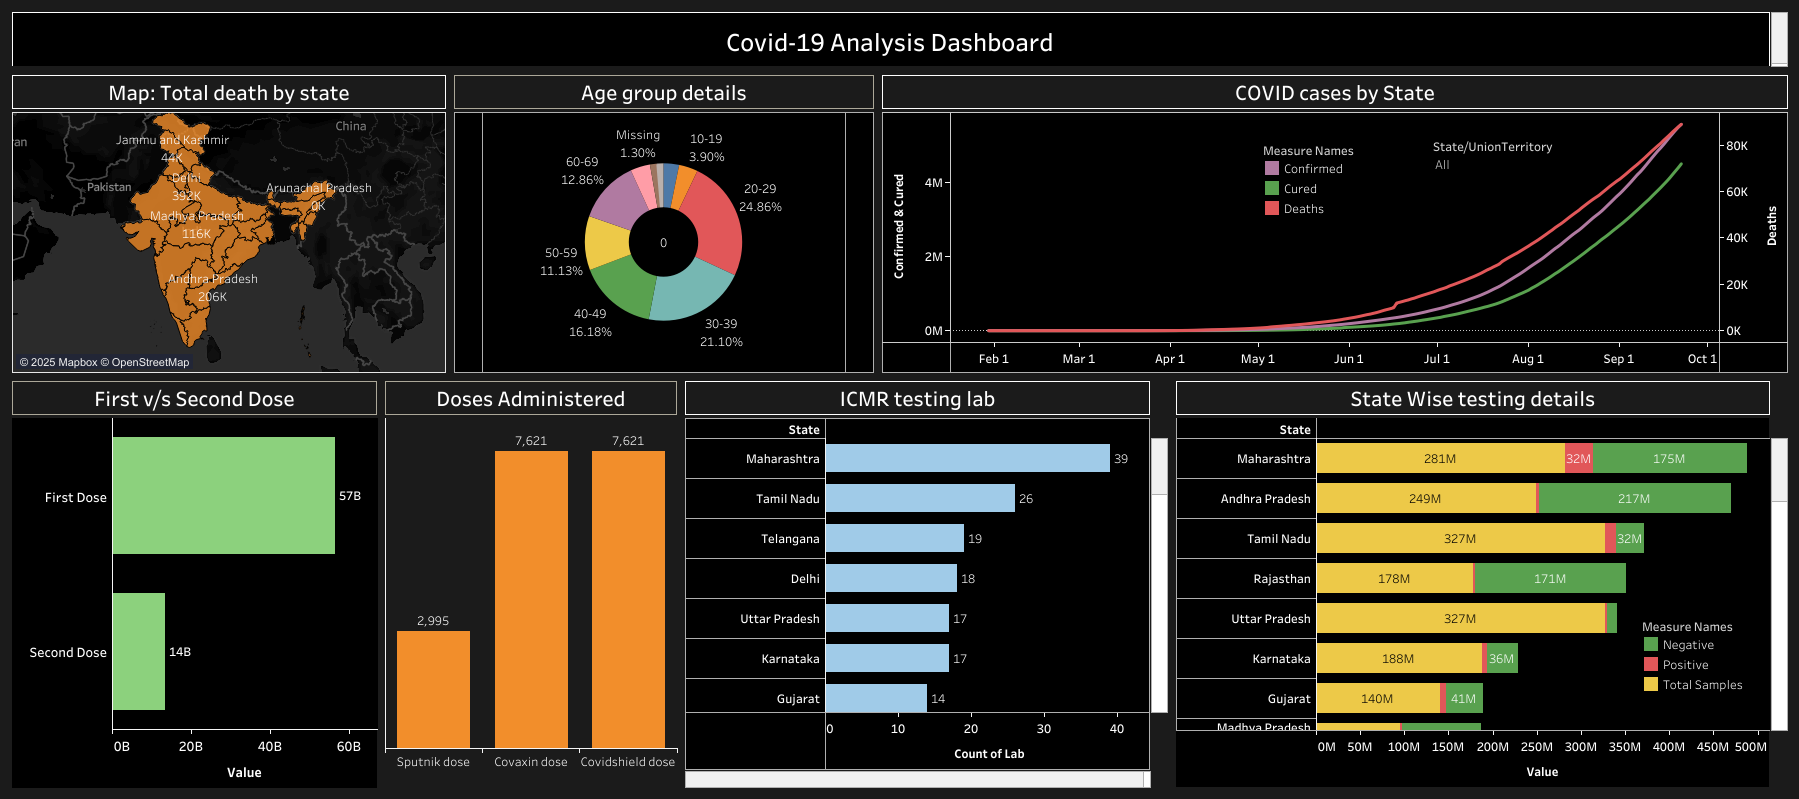

The page's visual inventory and layout, read from the dashboard file:
{"tool":"tableau","page":{"name":"Dashboard 1","canvas":[1800,800],"ordinal":0},"visuals":[{"type":"worksheet","title":"title","mark":"Automatic","box":[8,8,1784,63.1]},{"type":"worksheet","title":"Map: Total death by state","mark":"Automatic","box":[8,71.1,442,305.9]},{"type":"worksheet","title":"Age group details","mark":"Pie","rows":["Calculation_352969635285405697","Calculation_352969635285405697"],"box":[450,71.1,428,305.9]},{"type":"worksheet","title":"COVID cases by State","mark":"Automatic","rows":["Deaths"],"cols":["Date"],"box":[878,71.1,914,305.9]},{"type":"filter","title":"COVID cases by State","param":"[federated.0e0y9kd1suk8no1e488uf1n6h8mq].[none:State/UnionTerritory:nk]","box":[1433,136,168,69.3]},{"type":"legend","title":"COVID cases by State","param":"[federated.0e0y9kd1suk8no1e488uf1n6h8mq].[:Measure Names]","box":[1262,138.7,140,104]},{"type":"worksheet","title":"first vs second dose","mark":"Automatic","box":[8,377,373,415]},{"type":"worksheet","title":"Dose administered","mark":"Automatic","box":[381,377,300,415]},{"type":"worksheet","title":"ICMR testing lab","mark":"Automatic","rows":["state"],"cols":["lab"],"box":[681,377,491,415]},{"type":"worksheet","title":"State Wise testing details","mark":"Automatic","rows":["State"],"box":[1172,377,620,415]},{"type":"legend","title":"State Wise testing details","param":"[federated.0gh1htk0gqgfk81cnfso21sf5nkj].[:Measure Names]","box":[1641,615,122,105]}]}

Visuals, with their boxes in screenshot pixels (x1, y1, x2, y2), scaled from the page's 1800x800 canvas onto the 1799x799 screenshot:
"title" worksheet: bbox=(8, 8, 1791, 71)
"Map: Total death by state" worksheet: bbox=(8, 71, 450, 377)
"Age group details" worksheet (Pie marks): bbox=(450, 71, 878, 377)
"COVID cases by State" worksheet: bbox=(878, 71, 1791, 377)
"COVID cases by State" filter: bbox=(1432, 136, 1600, 205)
"COVID cases by State" legend: bbox=(1261, 139, 1401, 242)
"first vs second dose" worksheet: bbox=(8, 377, 381, 791)
"Dose administered" worksheet: bbox=(381, 377, 681, 791)
"ICMR testing lab" worksheet: bbox=(681, 377, 1171, 791)
"State Wise testing details" worksheet: bbox=(1171, 377, 1791, 791)
"State Wise testing details" legend: bbox=(1640, 614, 1762, 719)
